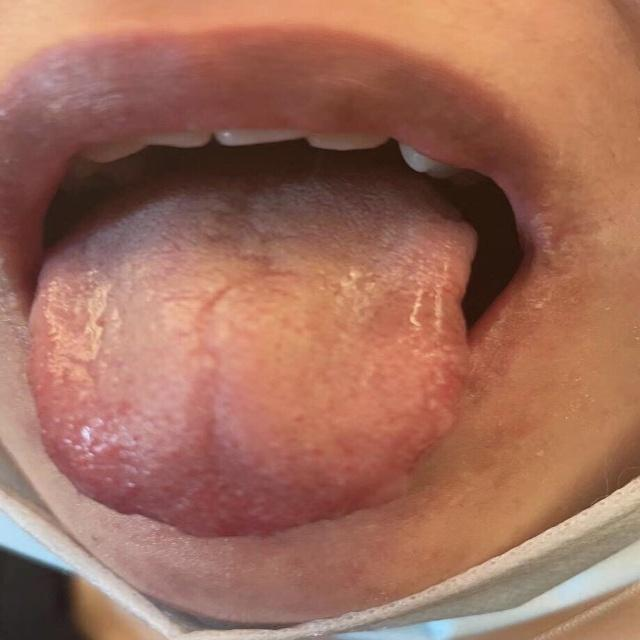baitaishe: (28, 167, 478, 537)
hongshe: (28, 167, 478, 537)
liewenshe: (186, 217, 302, 360)
